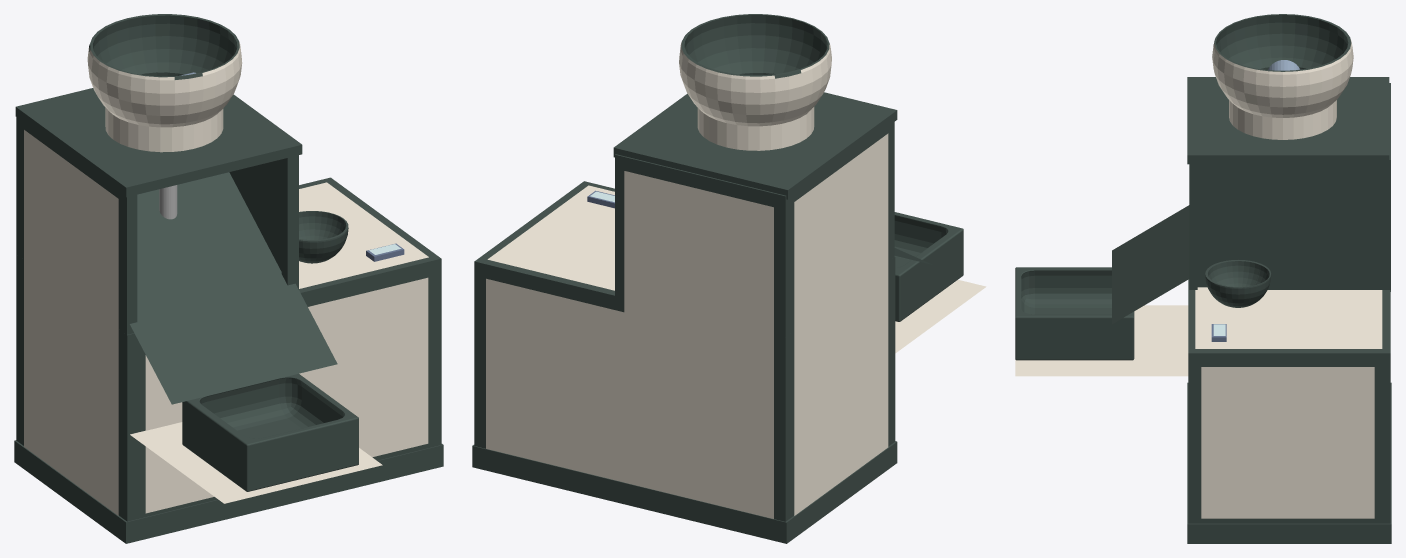
The model's file is fudlek.glb.
The picture shows the model from 3 angles, left to right: view 1: azimuth 30°, elevation 25°; view 2: azimuth 150°, elevation 25°; view 3: azimuth 270°, elevation 25°; orthographic projection. The views are drawn at different scales.
Parts seen in each view (by area): view 1: Plane, Plane.006, Plane.010, Cube.007, Sphere, Cube, Cube.003, Cube.001, Cube.002, Plane.002, Plane.001, Plane.011 (+4 smaller); view 2: Plane.008, Plane.006, Plane.009, Sphere, Cube.003, Cube, Cube.002, Cube.001, Plane.002, Cube.007, Cylinder.008, Plane.001; view 3: Plane.005, Cube.001, Sphere, Cube.003, Cube, Cube.007, Plane.002, Plane.001, Plane, Cube.002, Sphere.001, Cylinder.008 (+1 smaller).
Part boxes in pixels (bbox=[...]): Plane: bbox=[130, 172, 337, 404]; Plane.006: bbox=[24, 130, 118, 515]; Plane.010: bbox=[299, 277, 428, 457]; Cube.007: bbox=[182, 373, 358, 491]; Sphere: bbox=[87, 14, 242, 127]; Cube: bbox=[16, 177, 441, 521]; Cube.003: bbox=[15, 88, 302, 197]; Cube.001: bbox=[16, 117, 298, 334]; Cube.002: bbox=[14, 440, 443, 543]; Plane.002: bbox=[299, 182, 428, 288]; Plane.001: bbox=[130, 422, 382, 503]; Plane.011: bbox=[145, 355, 214, 513]; Plane.008: bbox=[624, 171, 773, 518]; Plane.006: bbox=[794, 133, 888, 515]; Plane.009: bbox=[486, 278, 624, 482]; Sphere: bbox=[679, 14, 831, 126]; Cube.003: bbox=[613, 92, 897, 199]; Cube: bbox=[474, 181, 895, 521]; Cube.002: bbox=[472, 441, 897, 543]; Cube.001: bbox=[615, 122, 894, 339]; Plane.002: bbox=[487, 185, 614, 290]; Cube.007: bbox=[894, 212, 963, 321]; Cylinder.008: bbox=[697, 107, 814, 150]; Plane.001: bbox=[895, 279, 986, 353]; Plane.005: bbox=[1201, 367, 1374, 518]; Cube.001: bbox=[1189, 83, 1390, 291]; Sphere: bbox=[1212, 14, 1353, 117]; Cube.003: bbox=[1187, 77, 1389, 164]; Cube: bbox=[1188, 279, 1390, 523]; Cube.007: bbox=[1015, 267, 1134, 360]; Plane.002: bbox=[1195, 290, 1382, 348]; Plane.001: bbox=[1015, 305, 1188, 376]; Plane: bbox=[1112, 205, 1189, 324]; Cube.002: bbox=[1187, 382, 1391, 543]; Sphere.001: bbox=[1205, 260, 1271, 307]; Cylinder.008: bbox=[1229, 100, 1336, 139].
Bounding box in the file's own units: 3.4 × 4.48 × 3.82.
